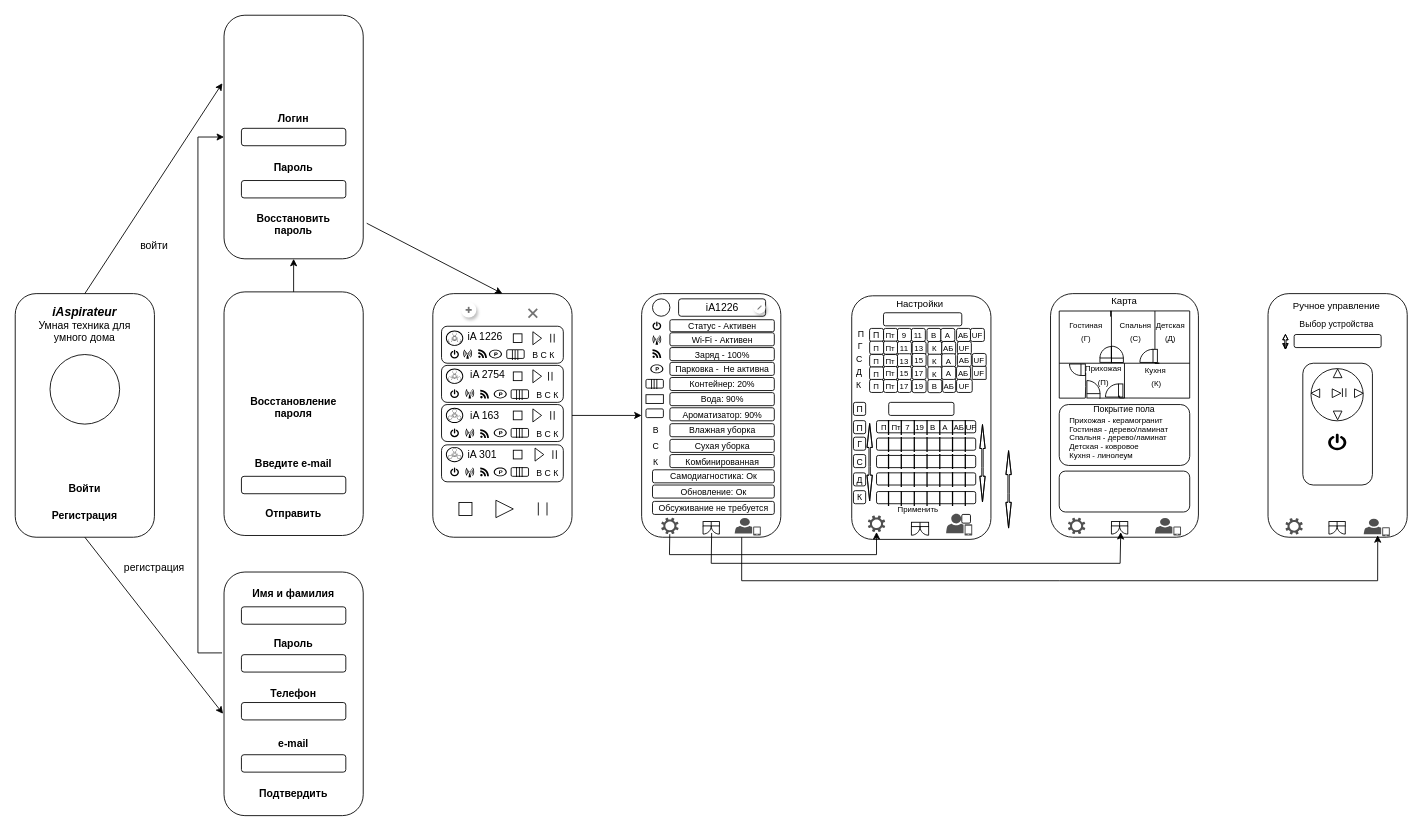
This 1422x831 diagram has some shape labels left out. The centre of each missing label's shape, as x and y in pixels:
"Задать новые" goes at [921,408].
"Логи" goes at [1124,491].
"По умолчанию" goes at [922,319].
"Пульт" goes at [1337,341].
